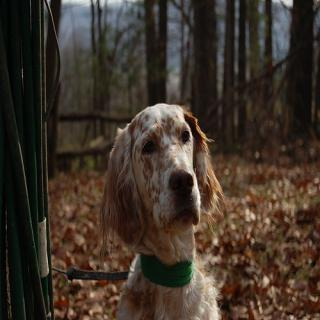dog: (103, 102, 229, 253)
